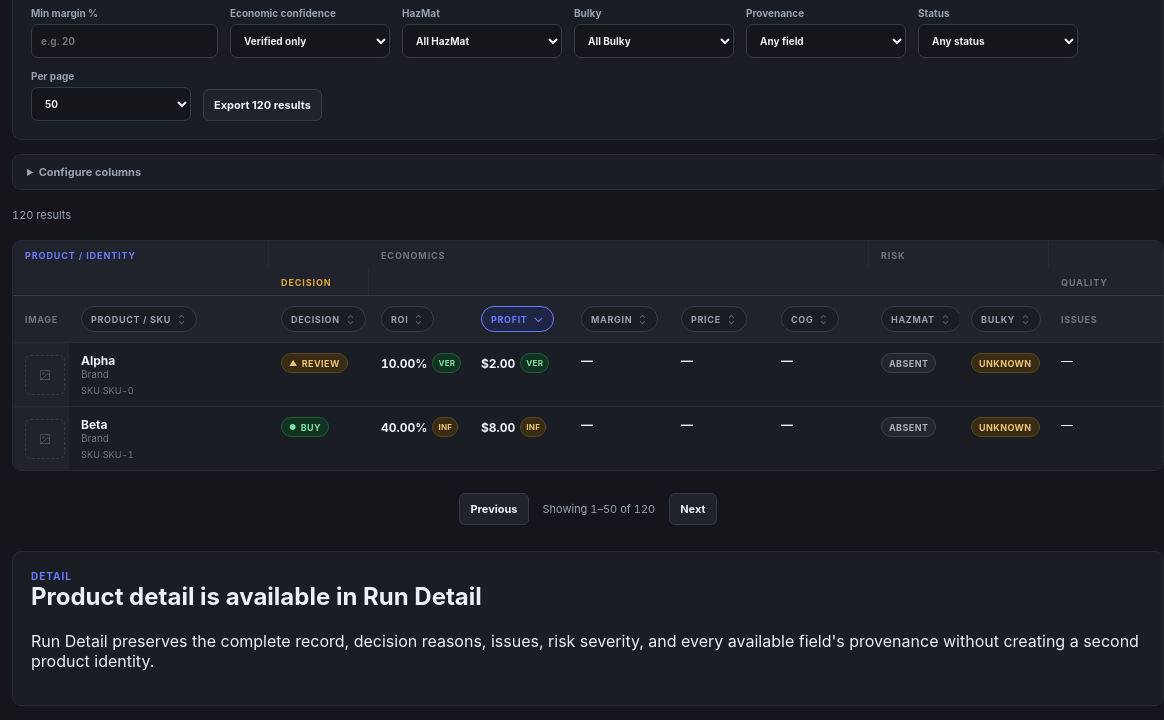
ProductsPage › paginates with Previous/Next using has_more and shows a range label
(page scrolled)
Check: the text "Alpha" is shown, box [81,353,115,368]
Check: the text "Showing 1–50 of 120" is shown, box [542,502,655,516]
Click the button "Next": (693, 509) [669,493,716,525]
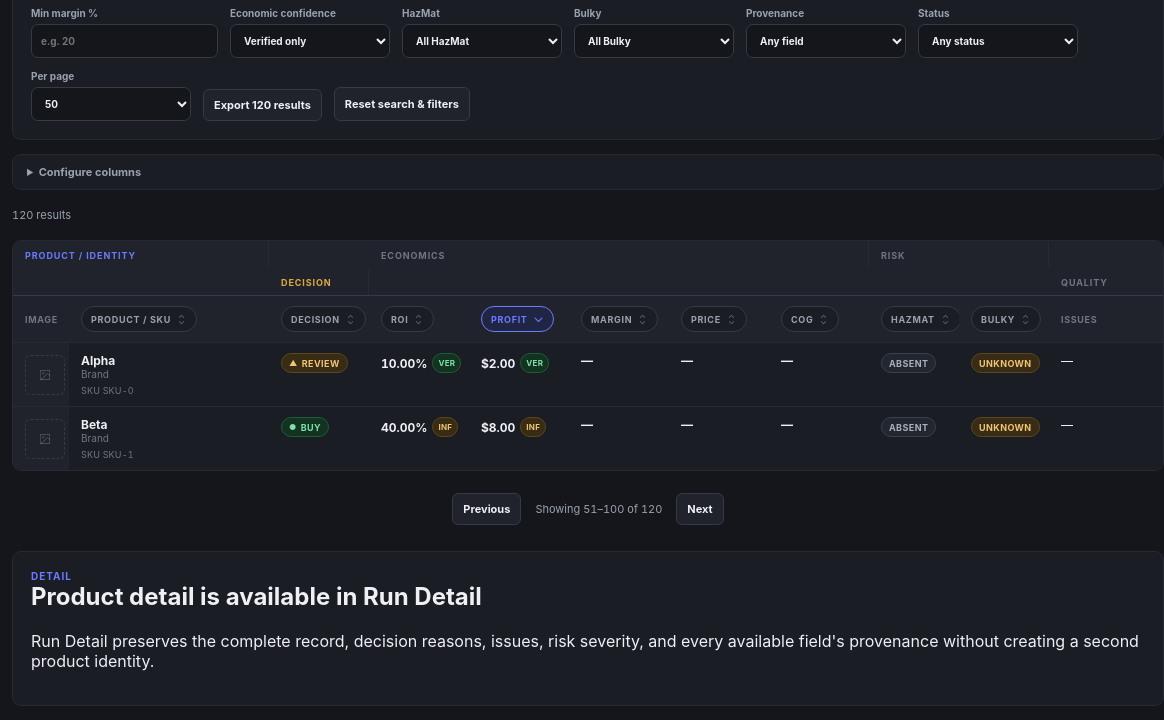
Check: the text "Showing 51–100 of 120" is shown, box [535,502,662,516]
Check: the button "Previous" is enabled, box [452,493,521,525]
